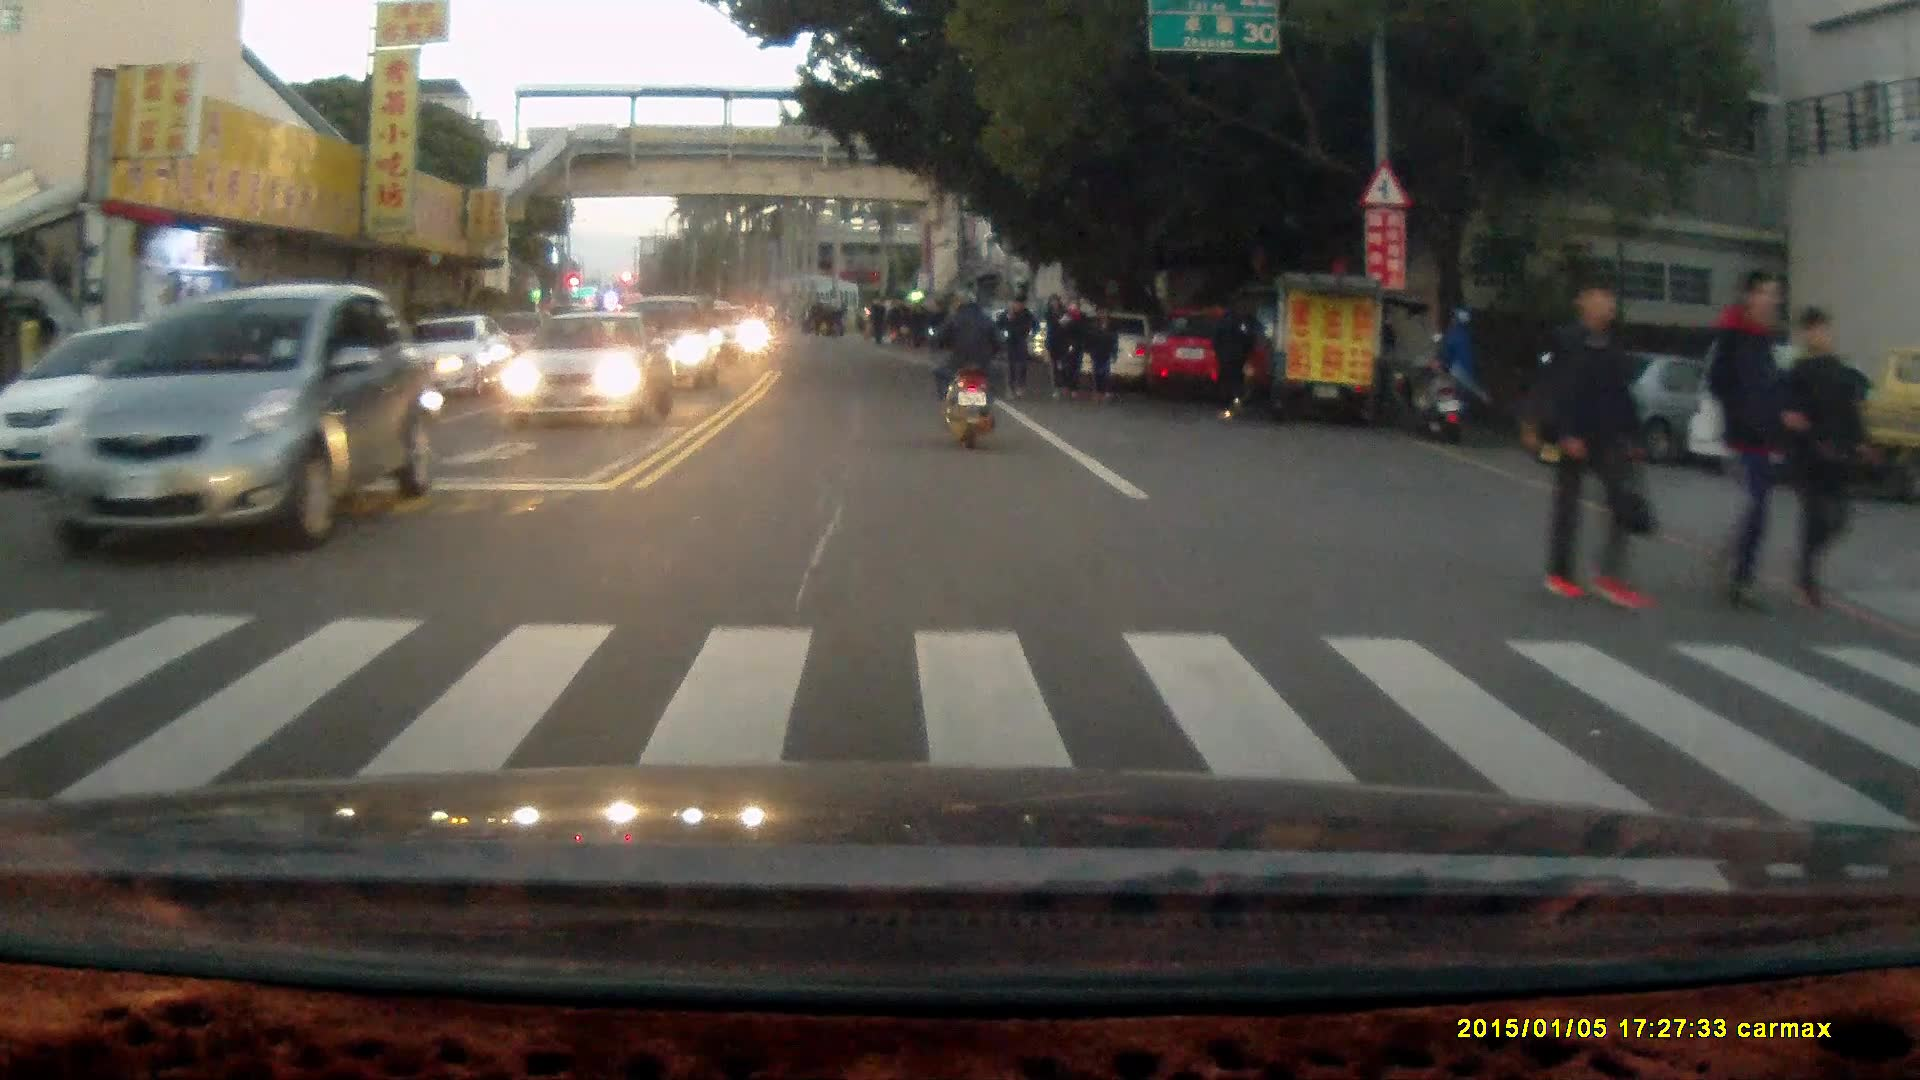pedestrian: (1529, 270, 1657, 614), (1700, 269, 1800, 609), (1781, 305, 1867, 613), (1202, 289, 1255, 425), (1435, 307, 1489, 431), (993, 291, 1034, 409), (1041, 289, 1074, 400), (1084, 299, 1119, 400)
rider: (926, 281, 1009, 448)
vehicle: (36, 281, 436, 552), (1533, 336, 1813, 473), (1747, 345, 1920, 504), (497, 305, 669, 425), (1141, 304, 1283, 401), (615, 287, 726, 388)
